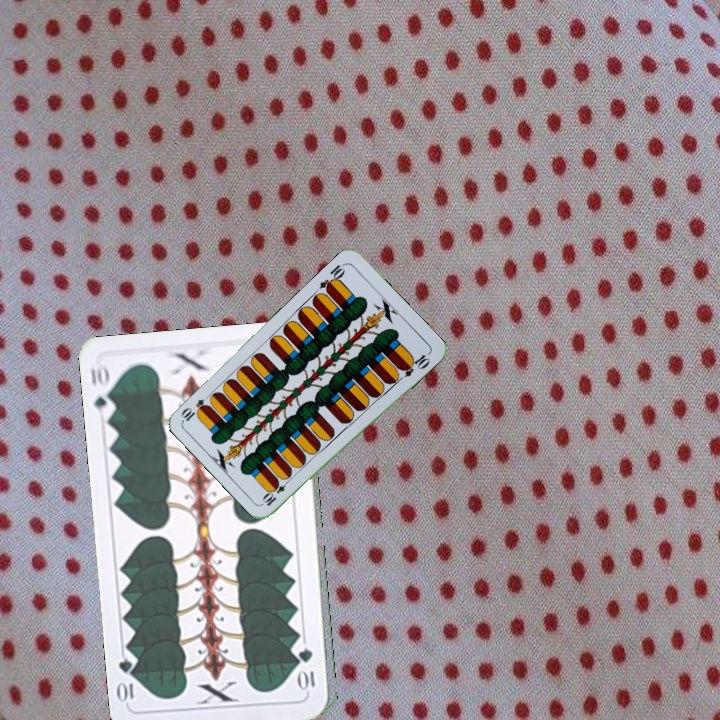E10: (315, 259, 348, 295), (259, 474, 293, 508)
G10: (87, 364, 117, 420), (297, 644, 318, 694)
